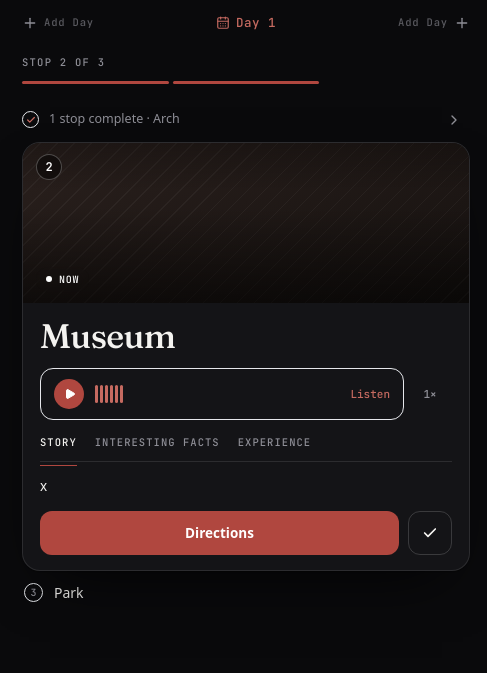
Guide orchestrator › renders the active + upcoming stops, with completed ones behind the section
This screenshot has width=487, height=673.
Expected: the heading "Museum" is shown, [40, 315, 175, 357]
Expanding the section reveals the completed stop as a reopenable row.
Click the button "1 stop complete · Arch": (114, 119) [18, 98, 466, 142]
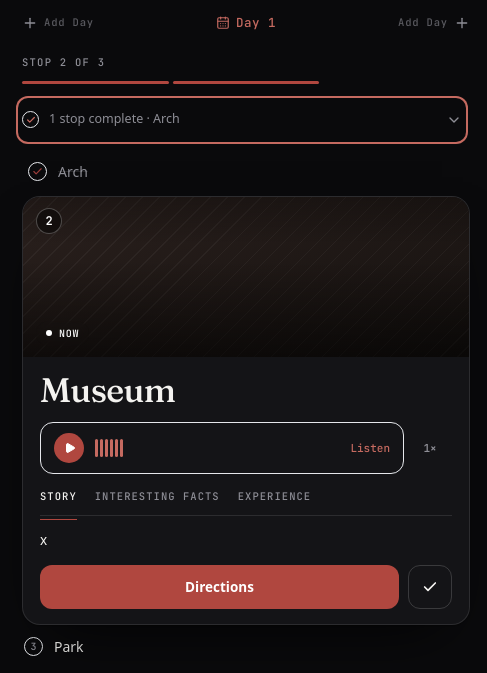
Expected: the button with aria-label "Open Arch" is shown, [58, 159, 468, 184]
